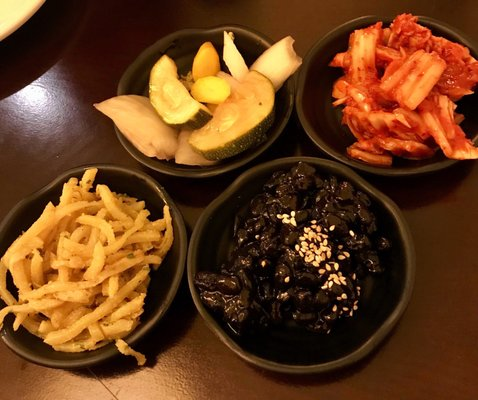sushi: (187, 153, 417, 376), (0, 165, 188, 364), (91, 27, 302, 181), (294, 14, 478, 180)
